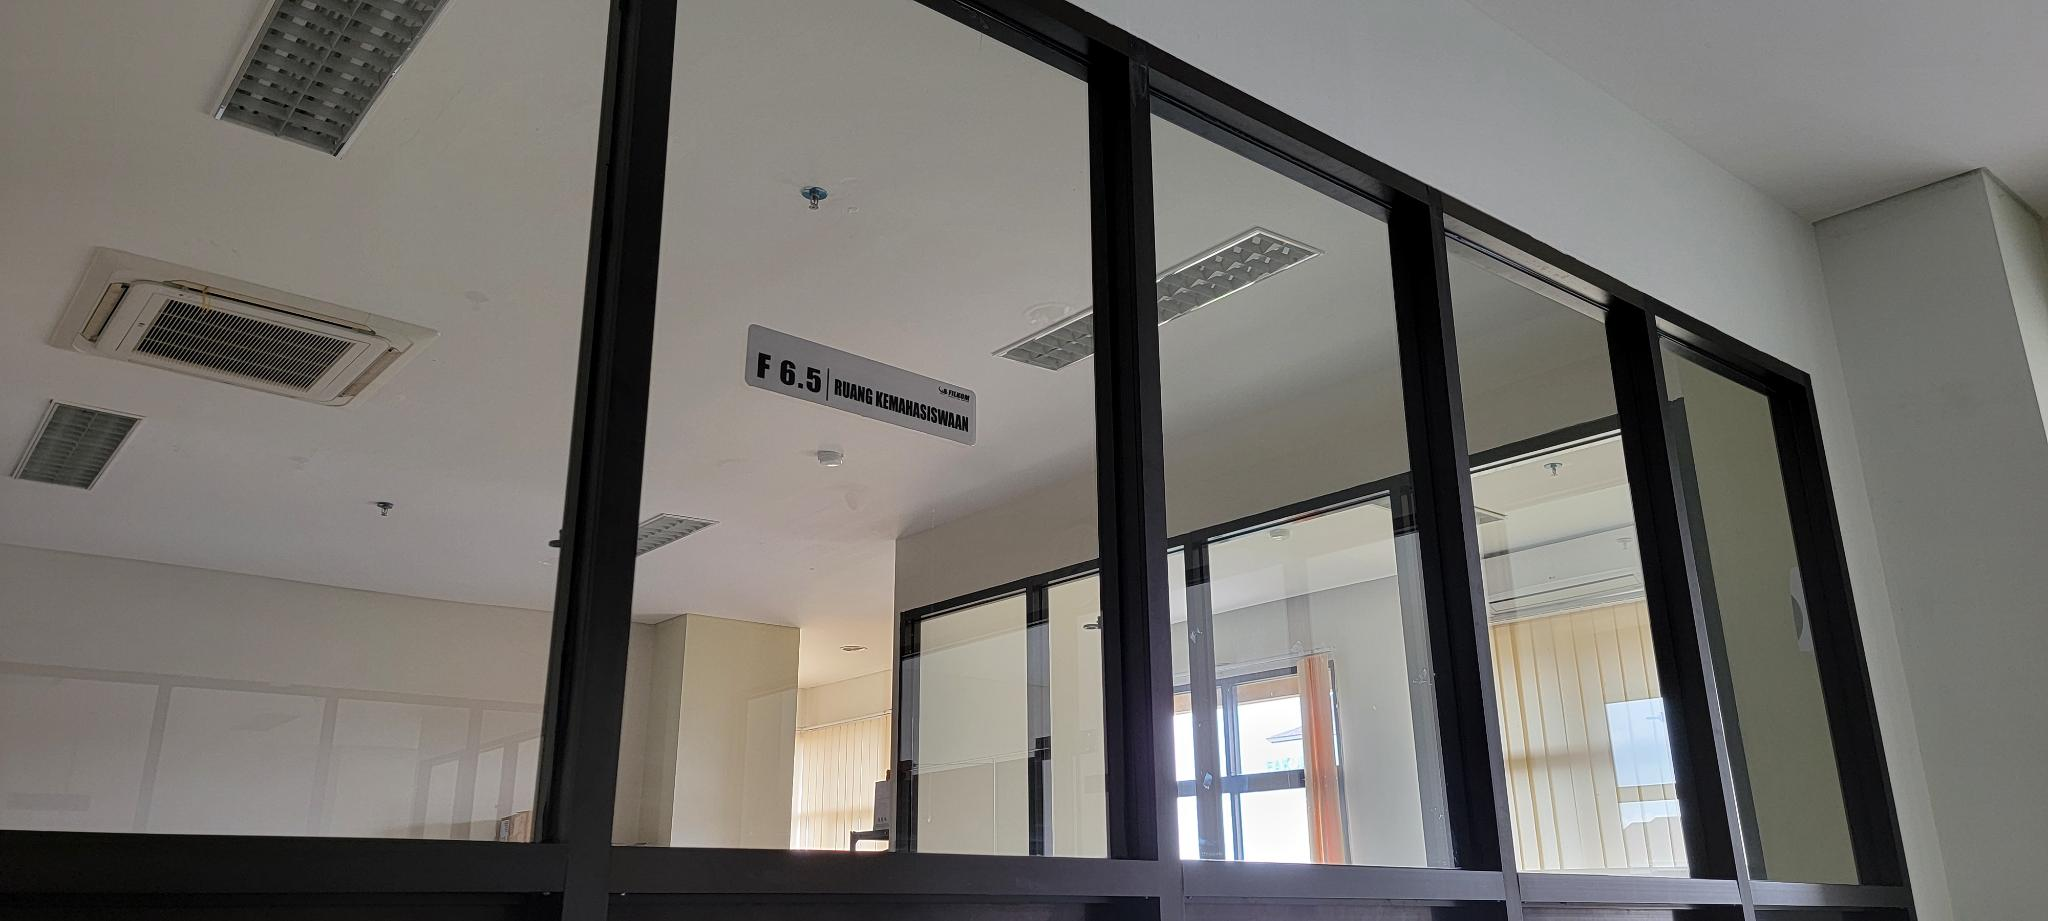plate: (746, 321, 977, 448)
